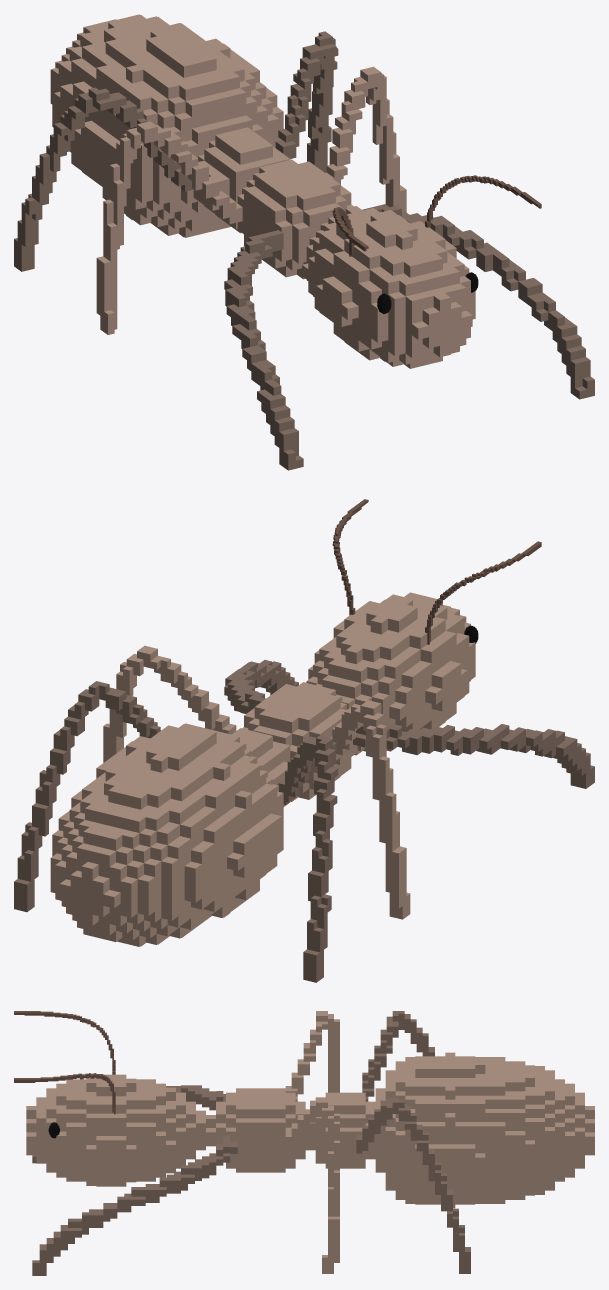
File: AntFix.fbx
The picture shows the model from 3 angles, top to bottom: view 1: azimuth 30°, elevation 25°; view 2: azimuth 150°, elevation 25°; view 3: azimuth 270°, elevation 25°; orthographic projection. The views are drawn at different scales.
Visible parts, largest first — view 1: Ant; view 2: Ant; view 3: Ant.
Boxes of the visible parts, box(x1,y1,x2,y2) form: Ant: box(14, 14, 594, 470); Ant: box(14, 499, 594, 982); Ant: box(14, 1011, 594, 1275).
Bounding box in the file's own units: 73.13 × 49.17 × 151.
